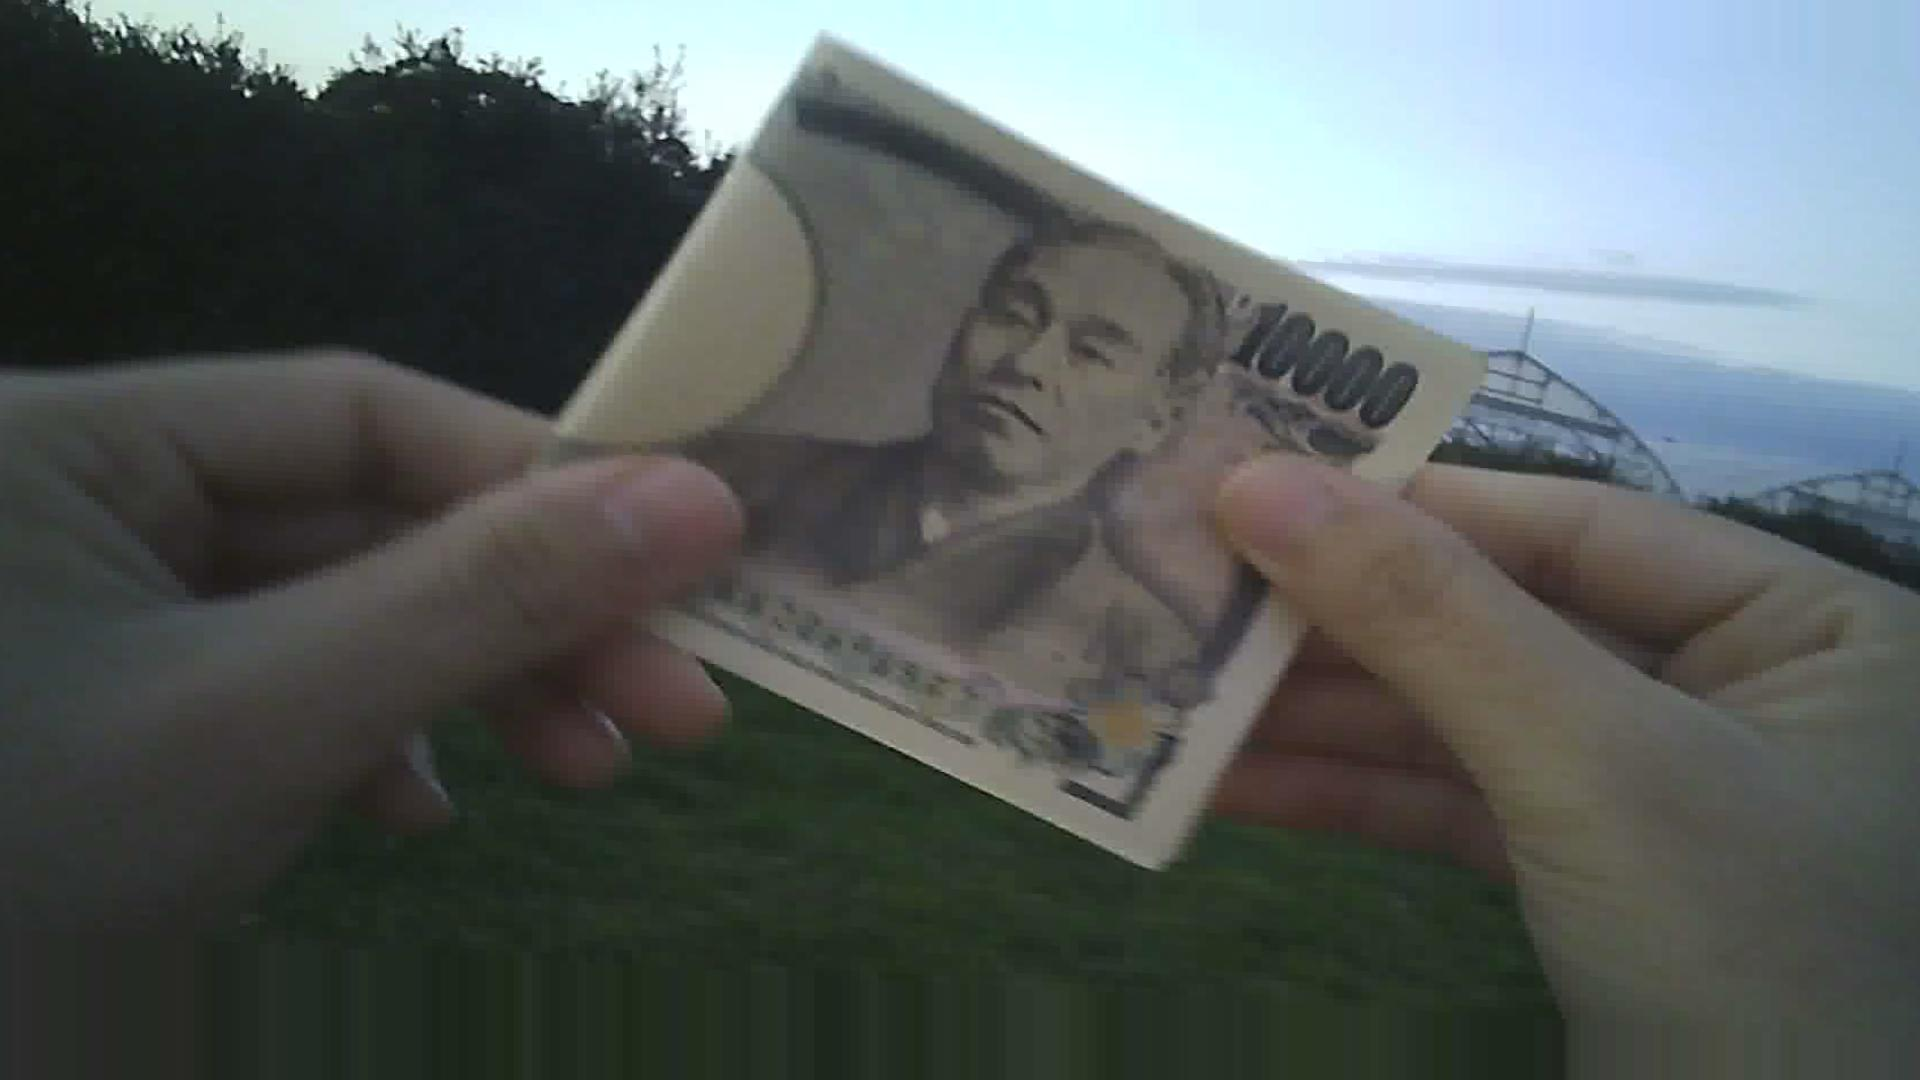10,000 Yen: (525, 44, 1507, 832)
